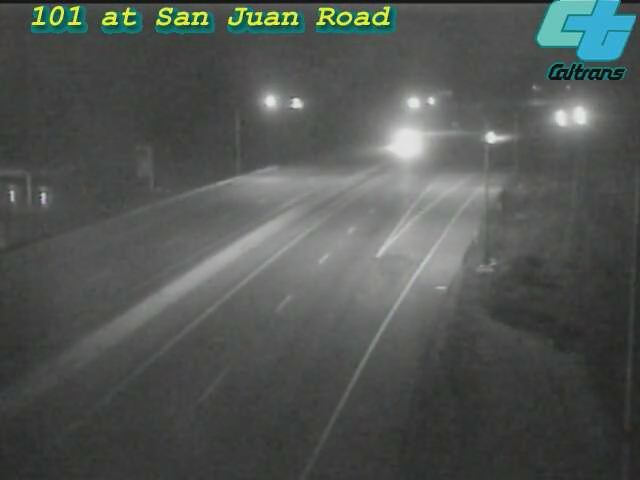vehicle: (378, 117, 428, 167), (465, 113, 515, 163), (536, 93, 586, 143), (552, 91, 602, 141)
